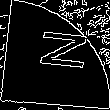N_W: (25, 32, 85, 78)
